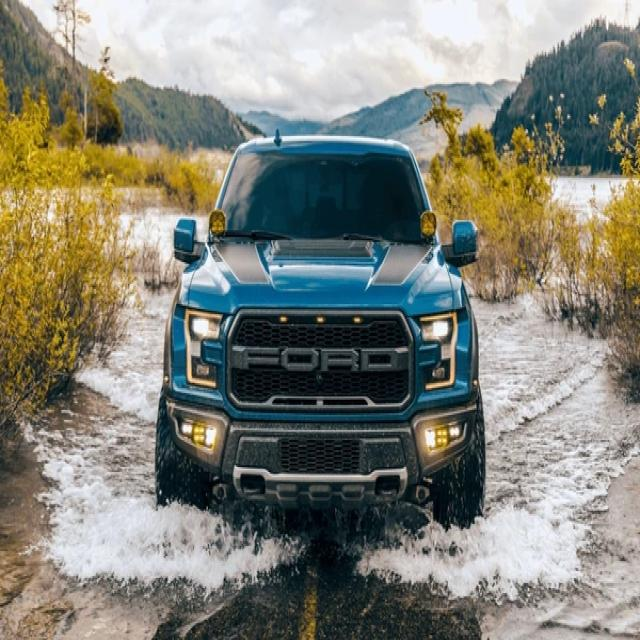ford: (230, 344, 408, 382)
